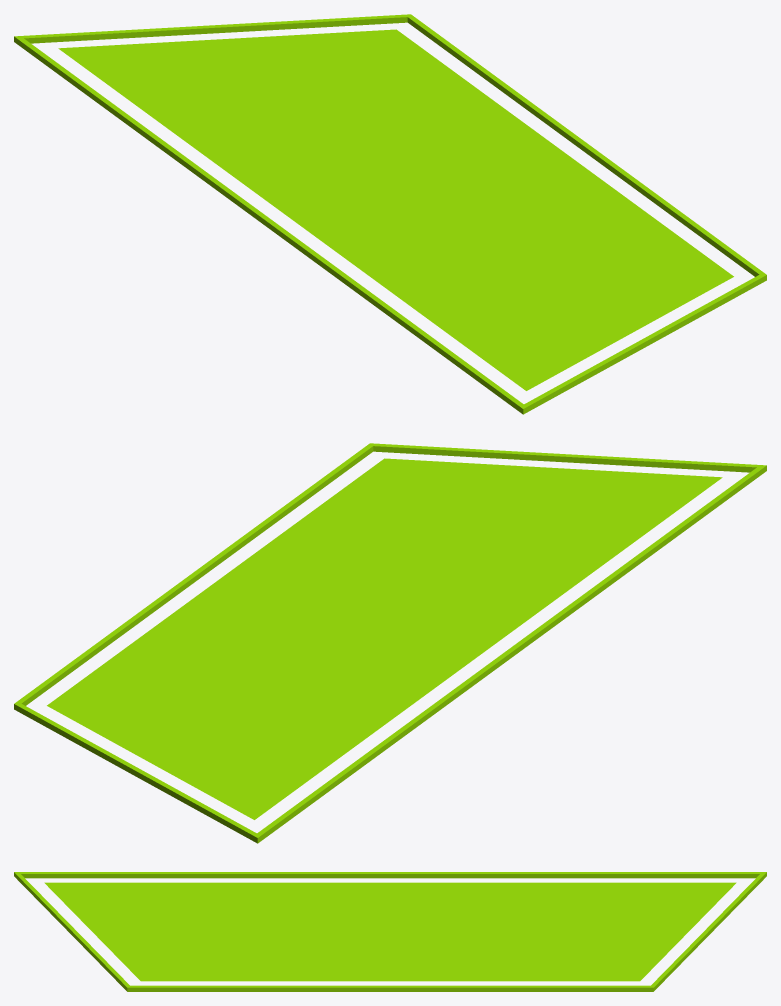
The model's file is room_001_catwalk.000.glb.
The picture shows the model from 3 angles, top to bottom: view 1: azimuth 30°, elevation 25°; view 2: azimuth 150°, elevation 25°; view 3: azimuth 270°, elevation 25°; orthographic projection. The views are drawn at different scales.
Visible parts, largest first — view 1: room.001_catwalk.000; view 2: room.001_catwalk.000; view 3: room.001_catwalk.000.
Part boxes in pixels (x1,y1,x2,y2): room.001_catwalk.000: [14, 14, 766, 414]; room.001_catwalk.000: [14, 443, 766, 843]; room.001_catwalk.000: [14, 872, 766, 991].
Bounding box in the file's own units: 3 × 0.05 × 8.27.
